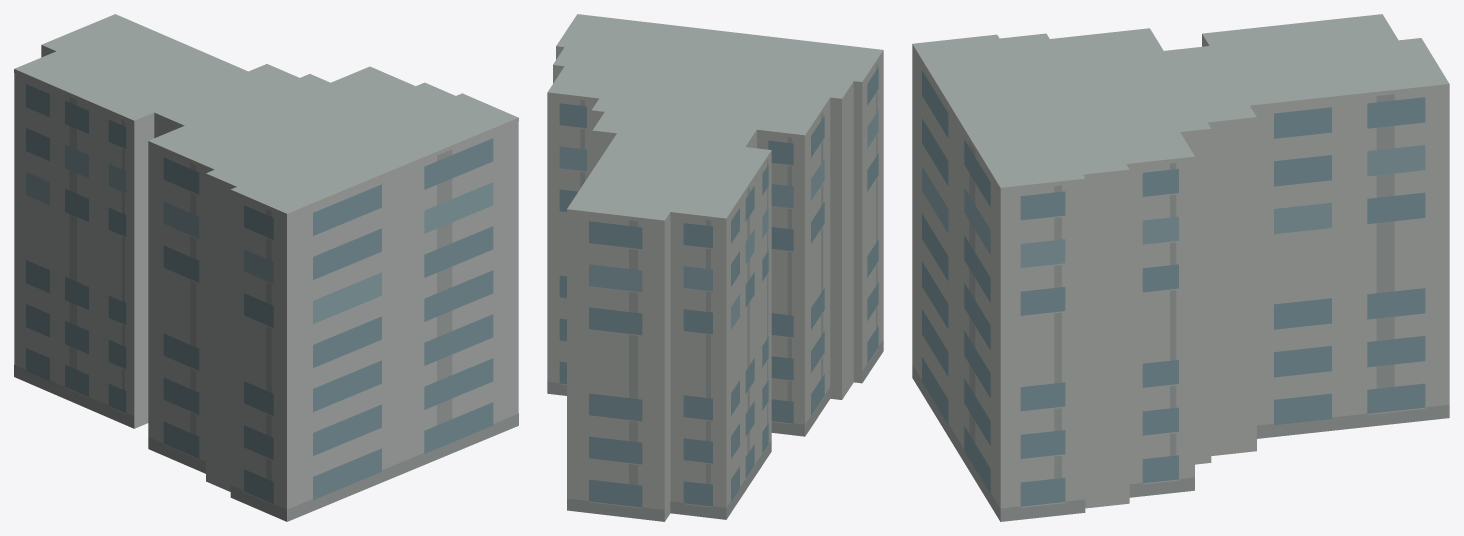
The model's file is survey-upis-33020535.glb.
3 renders of one model, left to right at view 1: azimuth 30°, elevation 25°; view 2: azimuth 150°, elevation 25°; view 3: azimuth 270°, elevation 25°, orthographic. The views are drawn at different scales.
Parts seen in each view (by area): view 1: survey-upis-33020535.tmp; view 2: survey-upis-33020535.tmp; view 3: survey-upis-33020535.tmp.
Part boxes in pixels (bbox=[...]): survey-upis-33020535.tmp: bbox=[14, 14, 518, 521]; survey-upis-33020535.tmp: bbox=[547, 14, 883, 521]; survey-upis-33020535.tmp: bbox=[912, 14, 1449, 521].
Size of the model in its own units: 21.1 by 18.9 by 27.56.
